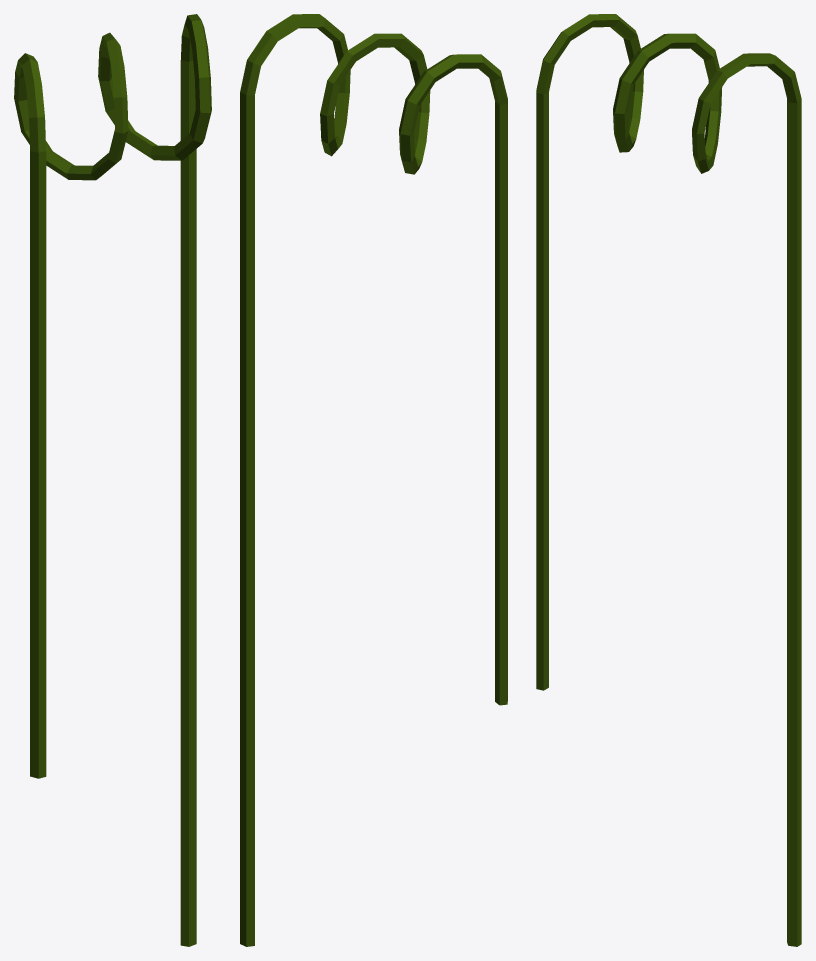
File: Prop_Vegetation_Jungle_Vine_Wraped_01.FBX
The picture shows the model from 3 angles, left to right: view 1: azimuth 30°, elevation 25°; view 2: azimuth 150°, elevation 25°; view 3: azimuth 330°, elevation 25°; orthographic projection. The views are drawn at different scales.
Visible parts, largest first — view 1: Prop_Vegetation_Jungle_Vine_Wraped_01; view 2: Prop_Vegetation_Jungle_Vine_Wraped_01; view 3: Prop_Vegetation_Jungle_Vine_Wraped_01.
Part boxes in pixels (x1=…): Prop_Vegetation_Jungle_Vine_Wraped_01: x1=14, y1=14, x2=211, y2=946; Prop_Vegetation_Jungle_Vine_Wraped_01: x1=240, y1=14, x2=507, y2=946; Prop_Vegetation_Jungle_Vine_Wraped_01: x1=536, y1=14, x2=801, y2=946.
Size of the model in its own units: 1098 by 4525 by 572.
